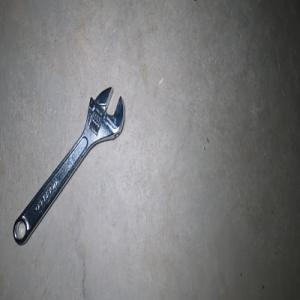Wrench: (12, 86, 124, 245)
